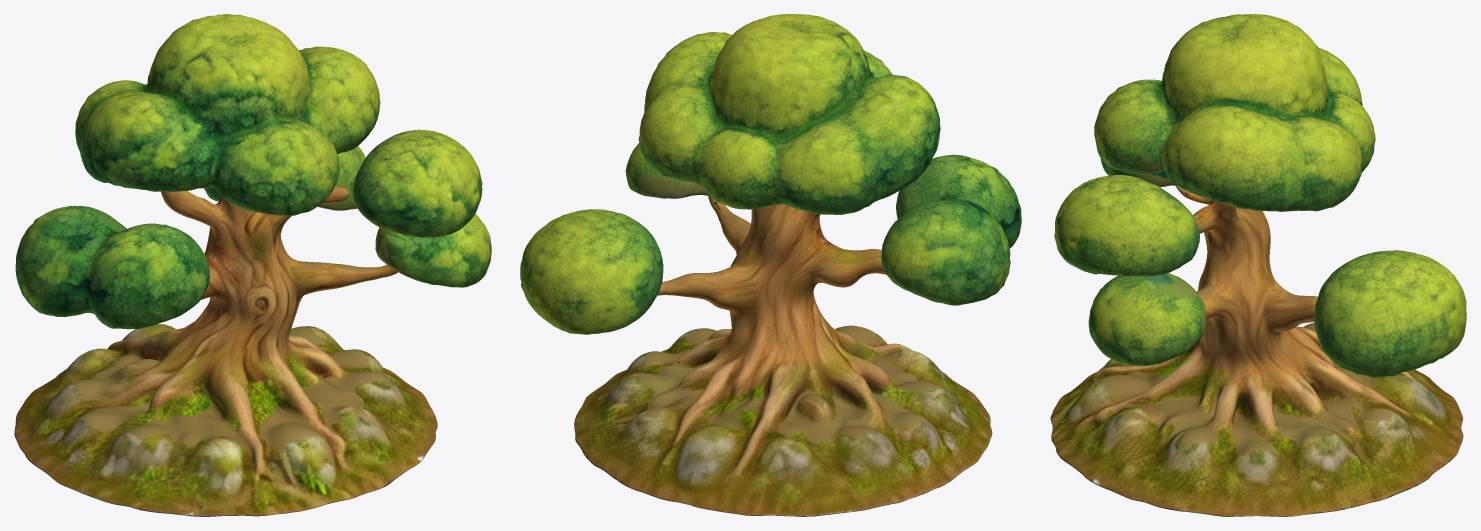
File: ancient-oak.glb
3 views of the same model, side by side, from view 1: azimuth 30°, elevation 25°; view 2: azimuth 150°, elevation 25°; view 3: azimuth 270°, elevation 25° (orthographic).
Parts seen in each view (by area): view 1: model; view 2: model; view 3: model.
Part boxes in pixels (x1=…): model: x1=14, y1=14, x2=491, y2=516; model: x1=520, y1=14, x2=1021, y2=516; model: x1=1050, y1=14, x2=1466, y2=516.
Size of the model in its own units: 1.88 by 1.74 by 1.64.
Materials: 1 (1 with a texture image).
